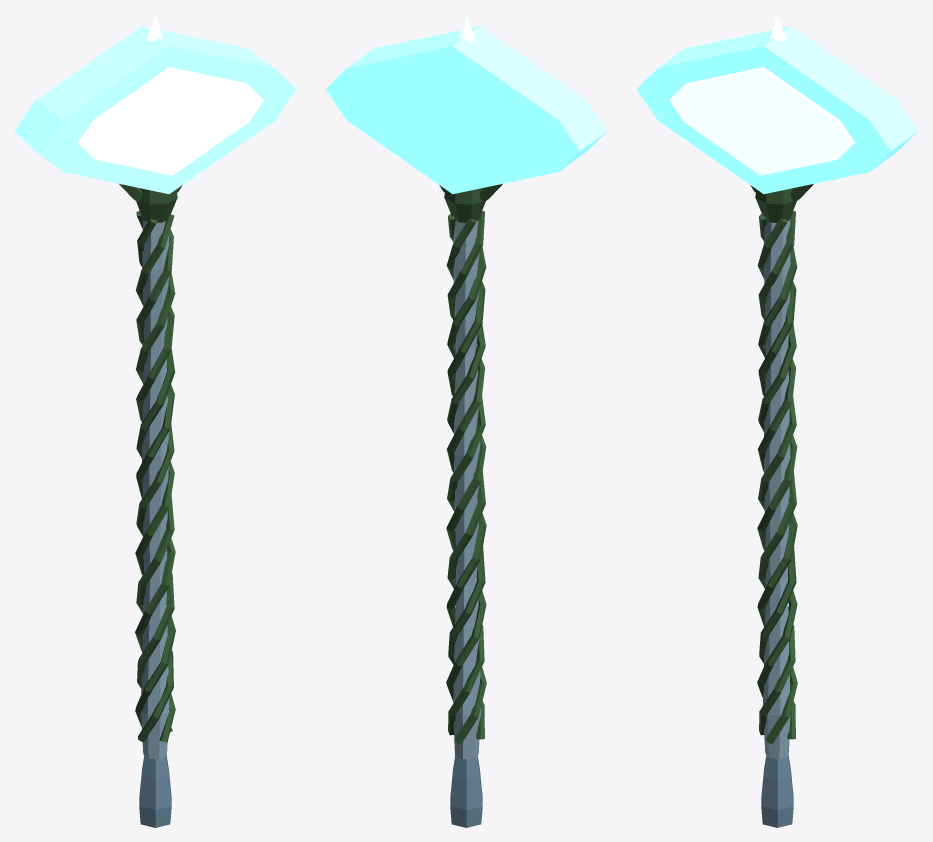
File: staff_kite.glb
3 renders of one model, left to right at view 1: azimuth 30°, elevation 25°; view 2: azimuth 150°, elevation 25°; view 3: azimuth 330°, elevation 25°, orthographic.
Visible parts, largest first — view 1: Kt_Crystal, Kt_Facet, Kt_Shaft, Kt_Vine2, Kt_Vine1, Kt_Vine3, Kt_Vine0, Kt_Butt, Kt_Neck; view 2: Kt_Crystal, Kt_Shaft, Kt_Vine1, Kt_Vine0, Kt_Vine2, Kt_Vine3, Kt_Butt, Kt_Neck; view 3: Kt_Crystal, Kt_Facet, Kt_Shaft, Kt_Vine3, Kt_Vine2, Kt_Vine0, Kt_Vine1, Kt_Butt, Kt_Neck.
Boxes of the visible parts, box(x1,y1,x2,y2) form: Kt_Crystal: box(14, 26, 296, 194); Kt_Facet: box(77, 67, 263, 175); Kt_Shaft: box(141, 220, 169, 758); Kt_Vine2: box(135, 214, 175, 742); Kt_Vine1: box(135, 218, 175, 726); Kt_Vine3: box(135, 229, 175, 742); Kt_Vine0: box(135, 210, 175, 732); Kt_Butt: box(139, 755, 171, 827); Kt_Neck: box(136, 188, 177, 222); Kt_Crystal: box(325, 26, 607, 194); Kt_Shaft: box(453, 220, 481, 758); Kt_Vine1: box(446, 211, 486, 744); Kt_Vine0: box(446, 218, 485, 735); Kt_Vine2: box(447, 246, 486, 739); Kt_Vine3: box(446, 213, 486, 701); Kt_Butt: box(450, 755, 482, 827); Kt_Neck: box(444, 188, 485, 222); Kt_Crystal: box(636, 26, 918, 194); Kt_Facet: box(669, 67, 855, 175); Kt_Shaft: box(763, 219, 790, 759); Kt_Vine3: box(757, 211, 797, 744); Kt_Vine2: box(757, 218, 796, 735); Kt_Vine0: box(758, 246, 797, 739); Kt_Vine1: box(757, 213, 797, 697); Kt_Butt: box(761, 755, 793, 827); Kt_Neck: box(755, 188, 796, 222).
Size of the model in its own units: 0.72 by 2.18 by 0.15.
